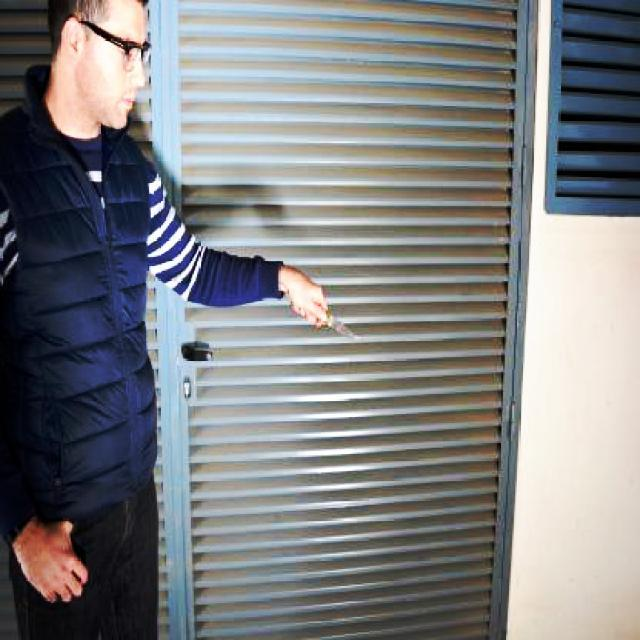Knife: (297, 302, 366, 343)
